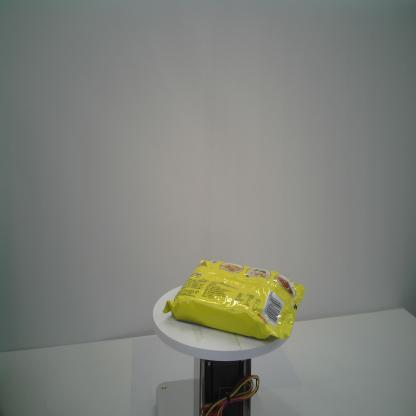Instant Noodles: (162, 258, 306, 342)
